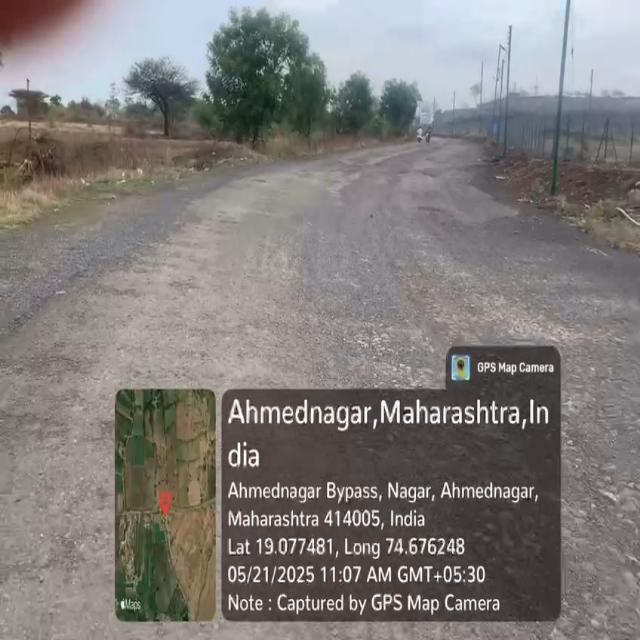damage surface: (8, 325, 74, 432), (144, 234, 224, 306)
